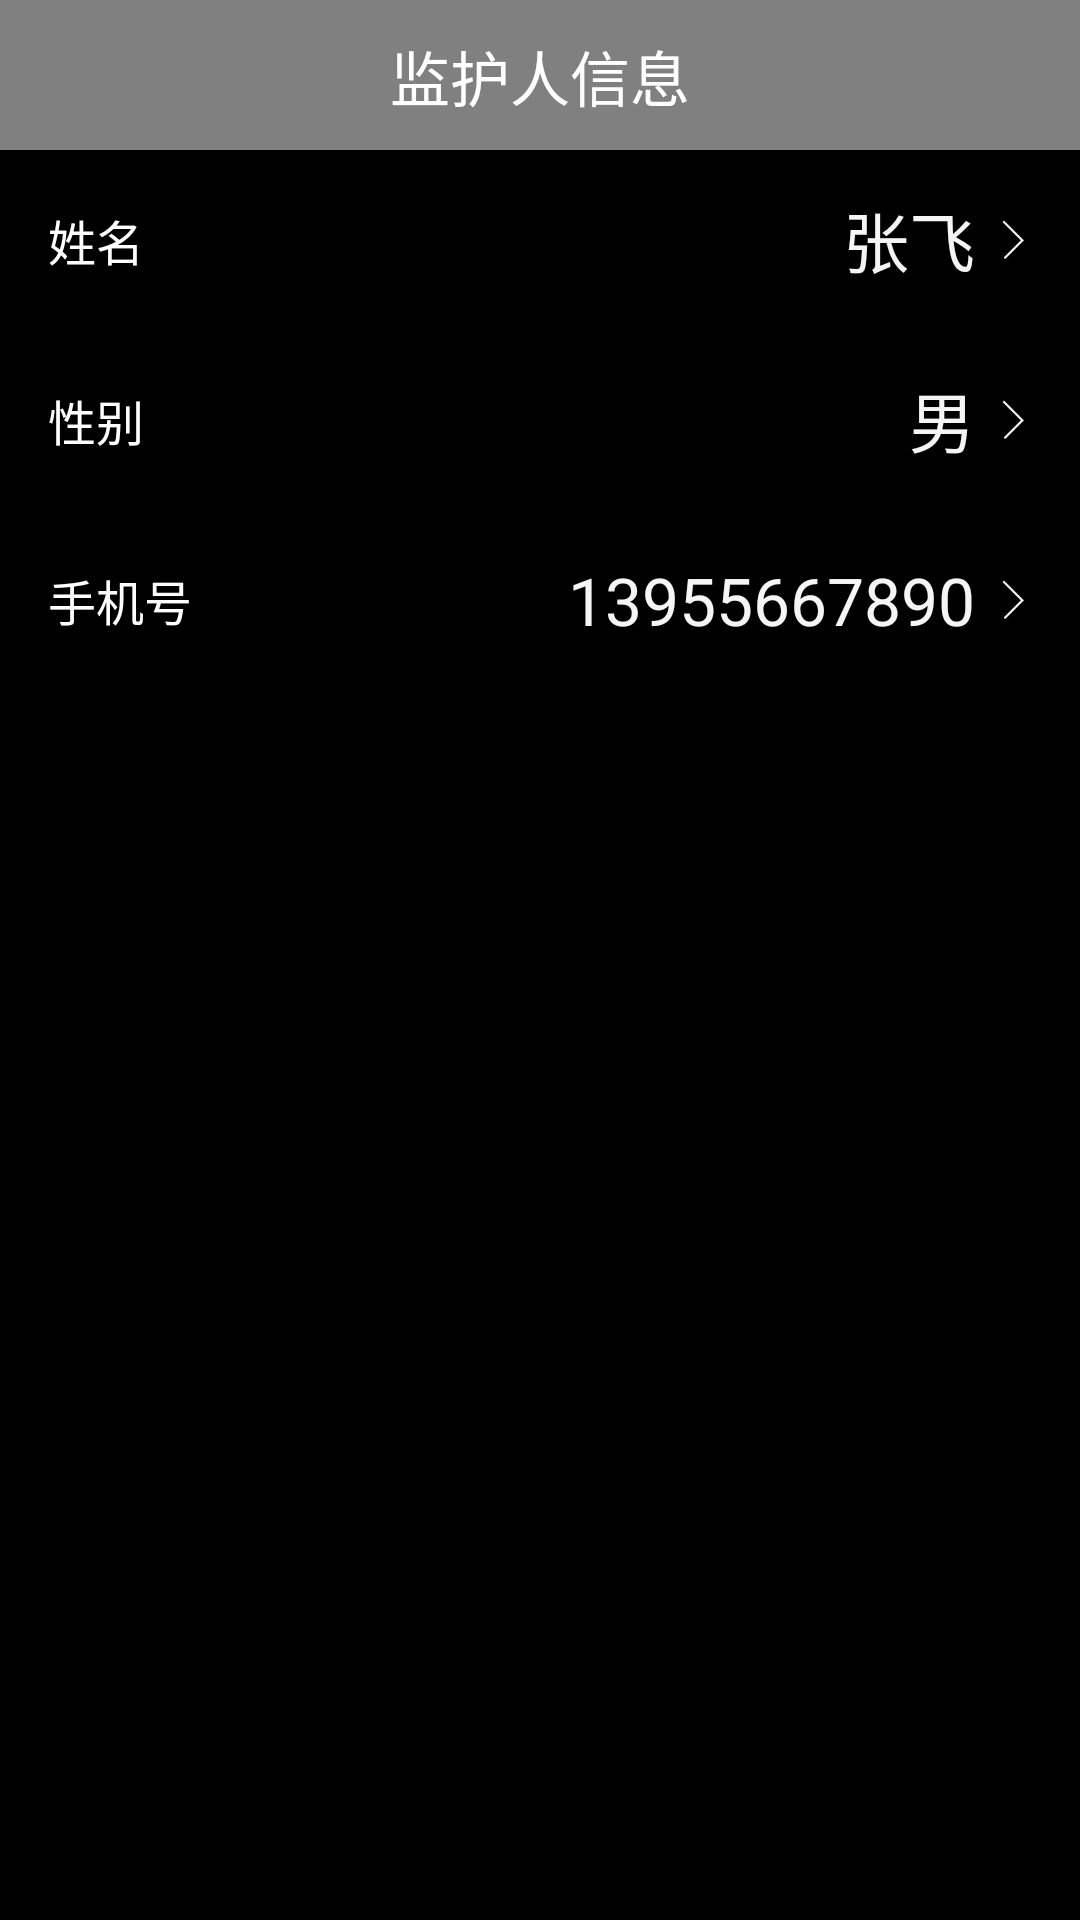

Locate icon controls on the screen. Image size 1080 × 1920, boxes as (x1, y1, x2, y2).
jiantou: (1002, 220, 1024, 259), (1002, 400, 1024, 439), (1002, 580, 1024, 619)
